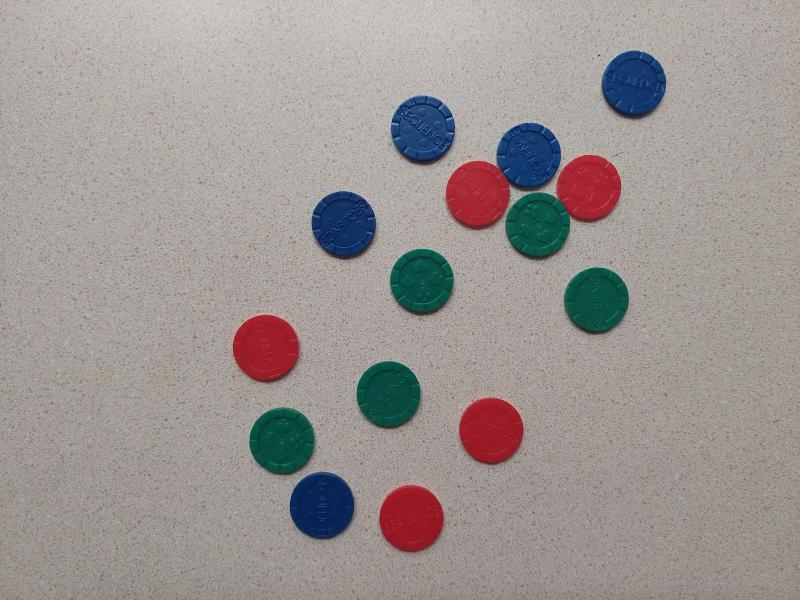Blue_Token: (384, 85, 466, 167), (607, 47, 681, 131), (306, 182, 380, 264), (294, 460, 361, 544), (491, 123, 563, 189)
Green_Token: (341, 350, 423, 444), (564, 262, 638, 364), (242, 392, 329, 478), (380, 241, 454, 321), (512, 182, 567, 270)
Red_Token: (446, 392, 543, 486), (358, 474, 459, 559), (560, 144, 636, 234), (232, 303, 311, 380), (441, 149, 515, 228)
